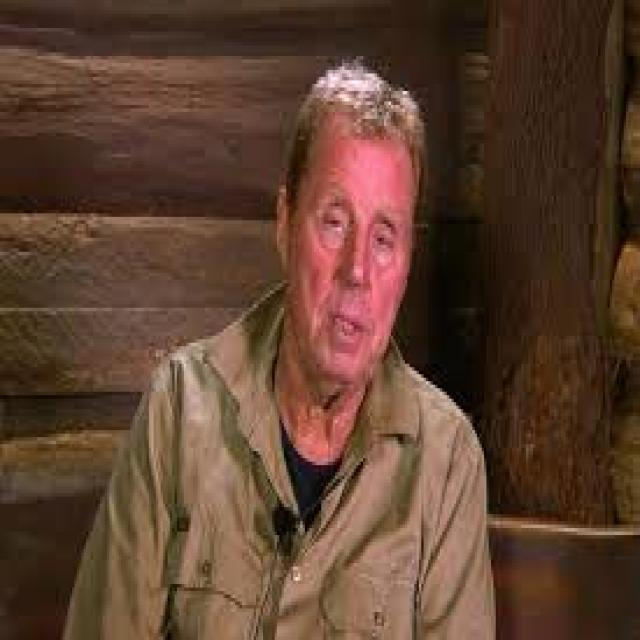normal_face: (302, 107, 410, 427)
